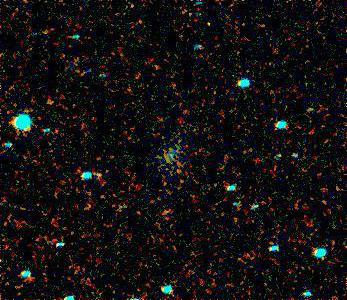star: (194, 7, 224, 37)
